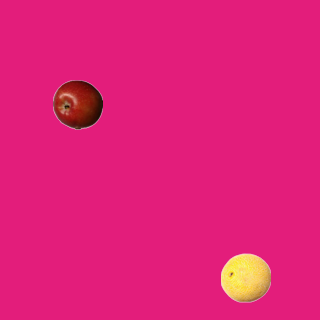Apple Braeburn: (52, 79, 102, 129)
Cantaloupe 1: (220, 252, 270, 302)
